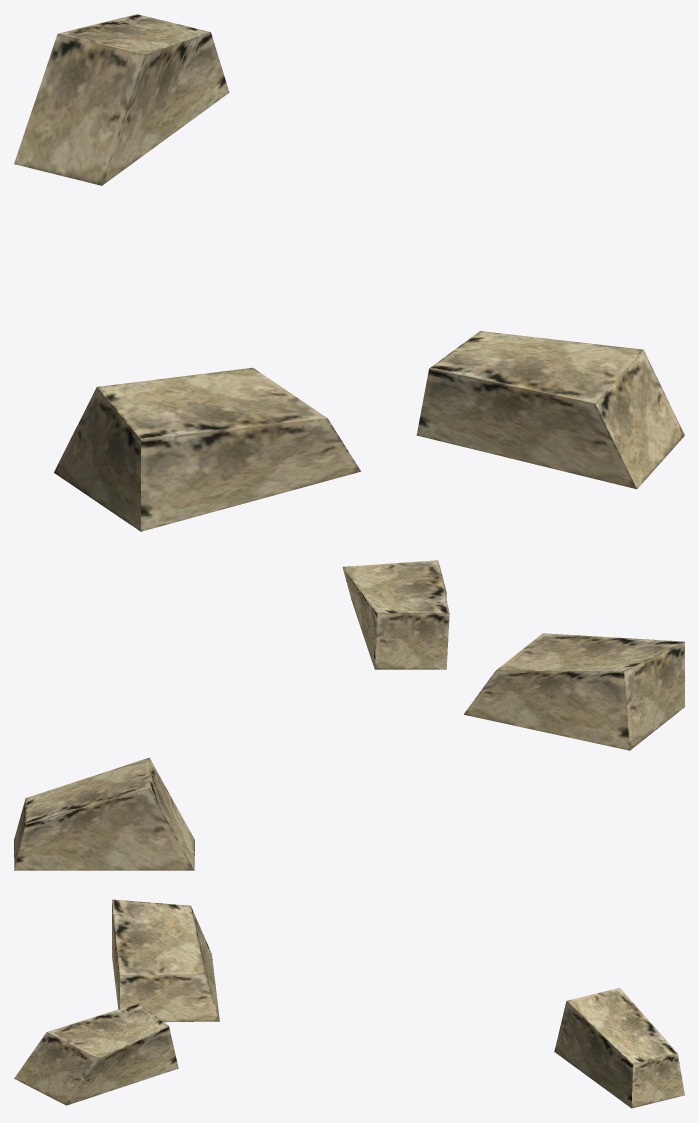
Rendered from M12_Rubble02.glb.
The picture shows the model from 3 angles, top to bottom: view 1: azimuth 30°, elevation 25°; view 2: azimuth 150°, elevation 25°; view 3: azimuth 270°, elevation 25°; orthographic projection. The views are drawn at different scales.
Parts seen in each view (by area): view 1: M12_RUBBLE02; view 2: M12_RUBBLE02; view 3: M12_RUBBLE02.
Boxes of the visible parts, x1,y1,x2,y2 form: M12_RUBBLE02: (14,14,684,531); M12_RUBBLE02: (14,560,684,870); M12_RUBBLE02: (14,899,684,1108).
Bounding box in the file's own units: 0.87 × 0.176 × 1.6.
1 material, 1 textured.
